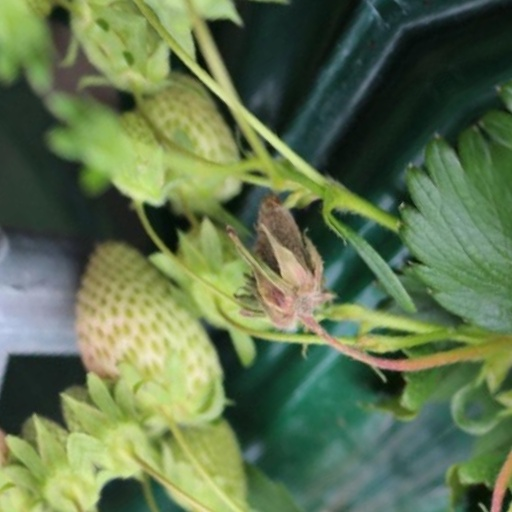Gray Mold: (198, 127, 306, 298)
